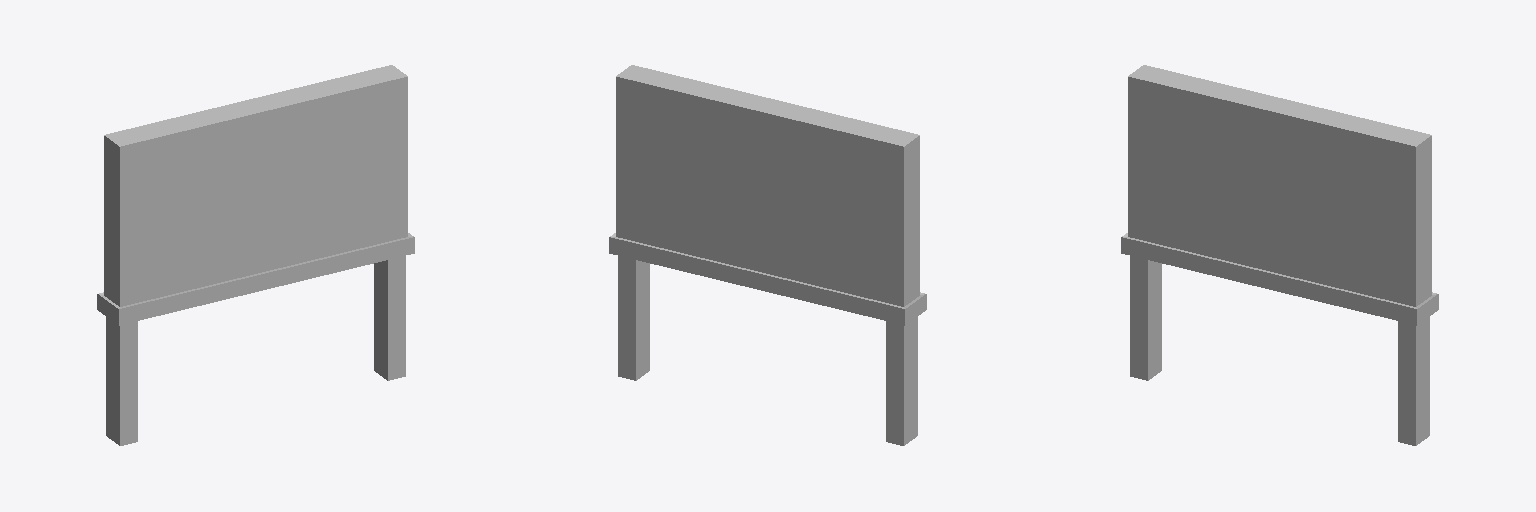
Rendered from billboards.obj.
3 renders of one model, left to right at view 1: azimuth 30°, elevation 25°; view 2: azimuth 150°, elevation 25°; view 3: azimuth 330°, elevation 25°, orthographic.
Parts seen in each view (by area): view 1: billboards; view 2: billboards; view 3: billboards.
Boxes of the visible parts, <box> form: billboards: <box>97,65,414,445</box>; billboards: <box>609,65,926,445</box>; billboards: <box>1121,65,1438,445</box>.
Bounding box in the file's own units: 1.03 × 0.9961 × 0.1272.